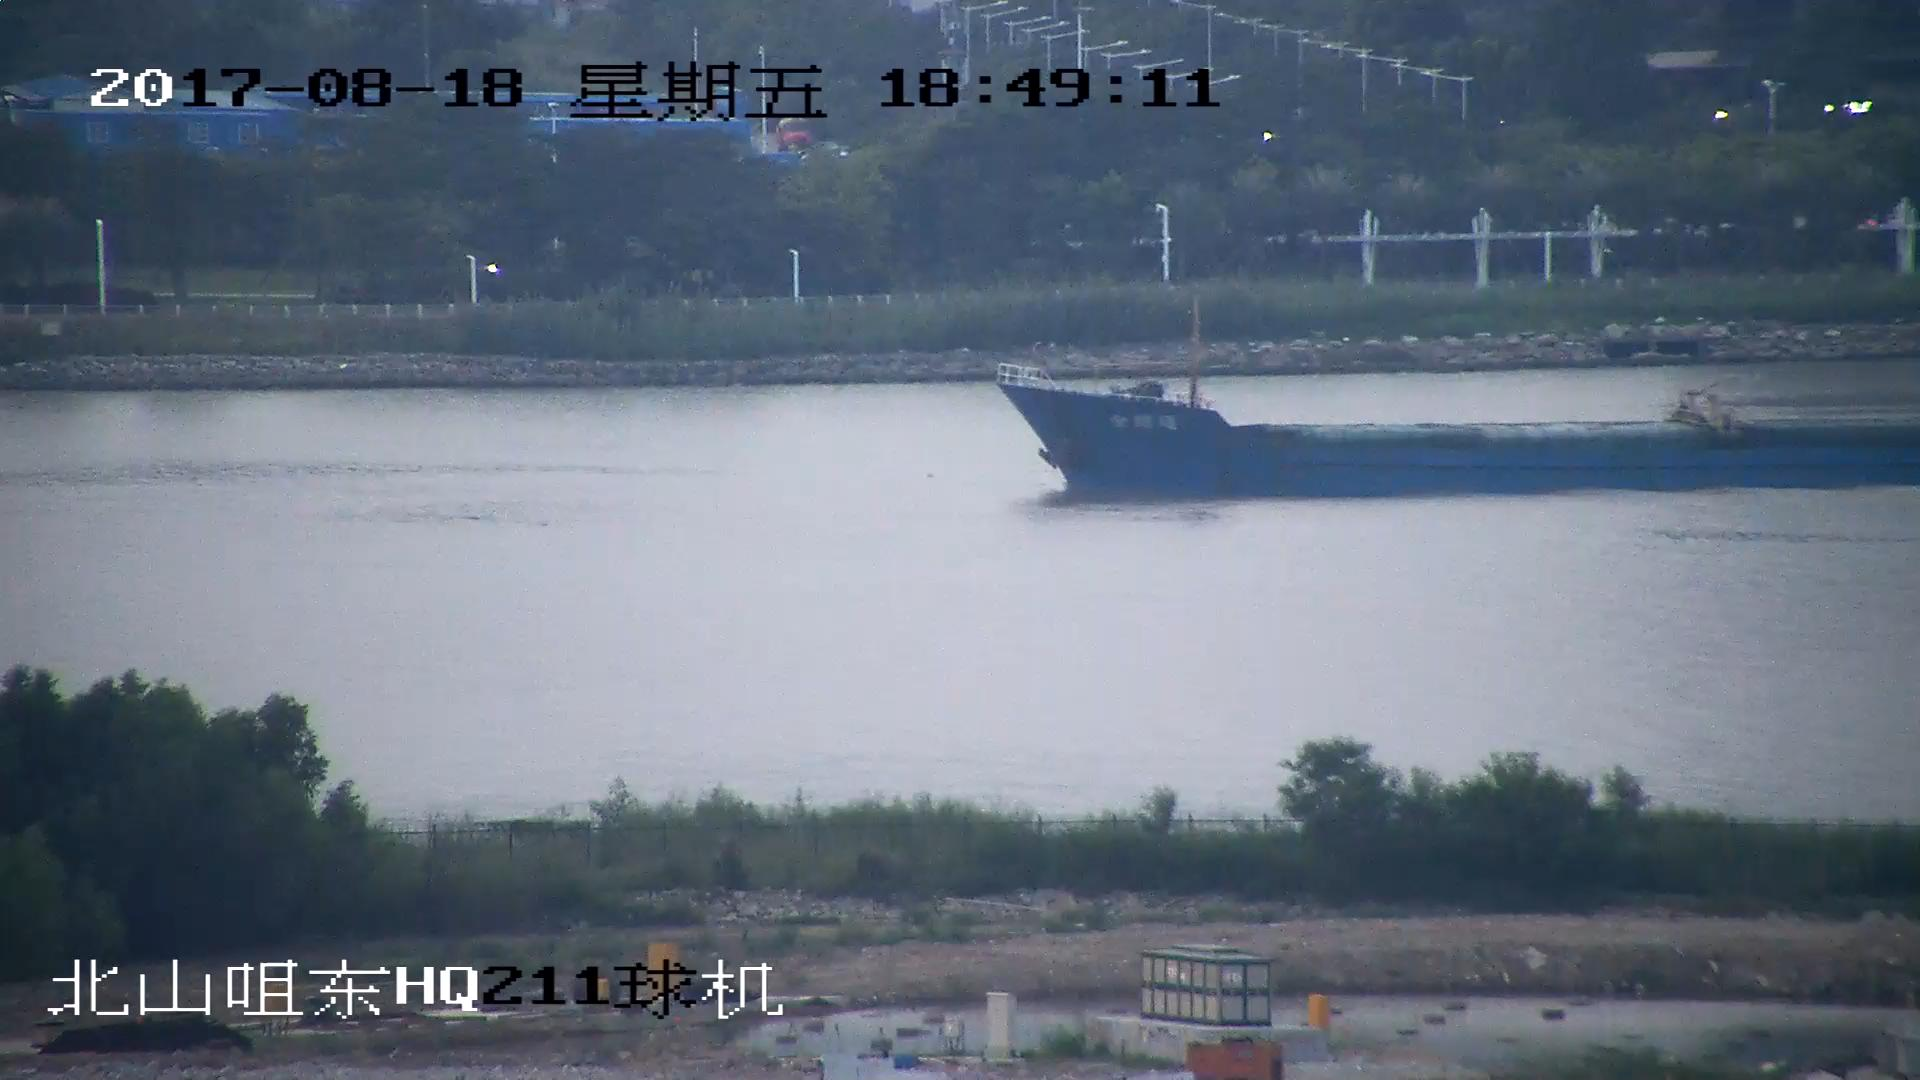general cargo ship: (997, 366, 1920, 495)
